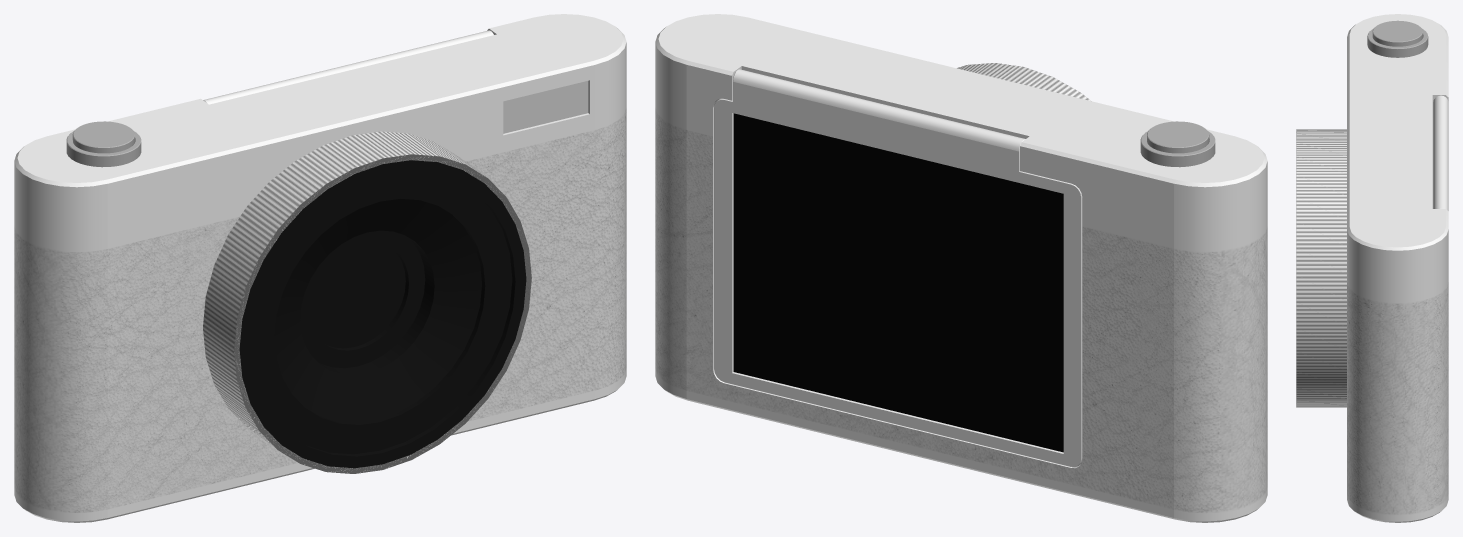
Rendered from Camera.fbx.
The picture shows the model from 3 angles, left to right: view 1: azimuth 30°, elevation 25°; view 2: azimuth 150°, elevation 25°; view 3: azimuth 270°, elevation 25°; orthographic projection. The views are drawn at different scales.
Parts seen in each view (by area): view 1: Camera, FlipDisplay; view 2: Camera, FlipDisplay; view 3: Camera, FlipDisplay.
Boxes of the visible parts, x1=… form: Camera: x1=14, y1=14, x2=626, y2=522; FlipDisplay: x1=203, y1=30, x2=493, y2=104; Camera: x1=655, y1=14, x2=1267, y2=522; FlipDisplay: x1=714, y1=69, x2=1082, y2=467; Camera: x1=1296, y1=14, x2=1448, y2=522; FlipDisplay: x1=1433, y1=95, x2=1448, y2=210.
Bounding box in the file's own units: 0.11 × 0.063 × 0.03.
Materials: 5 (4 with a texture image).
